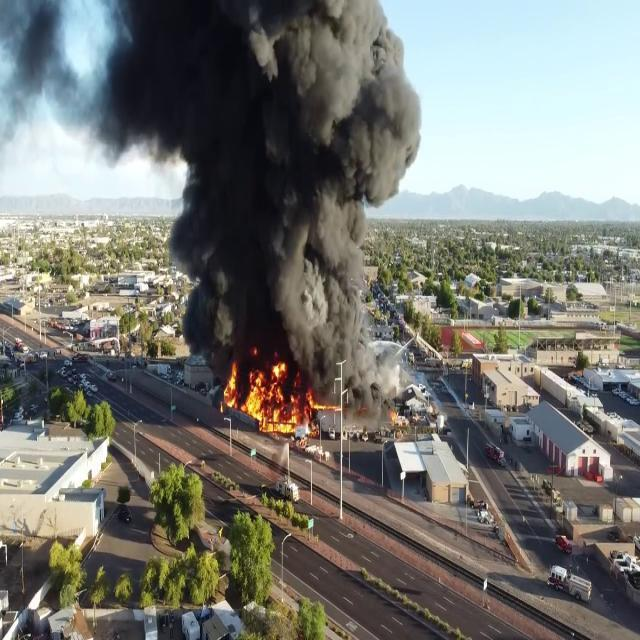Fire: (224, 353, 310, 434)
Smoke: (64, 0, 426, 388)
